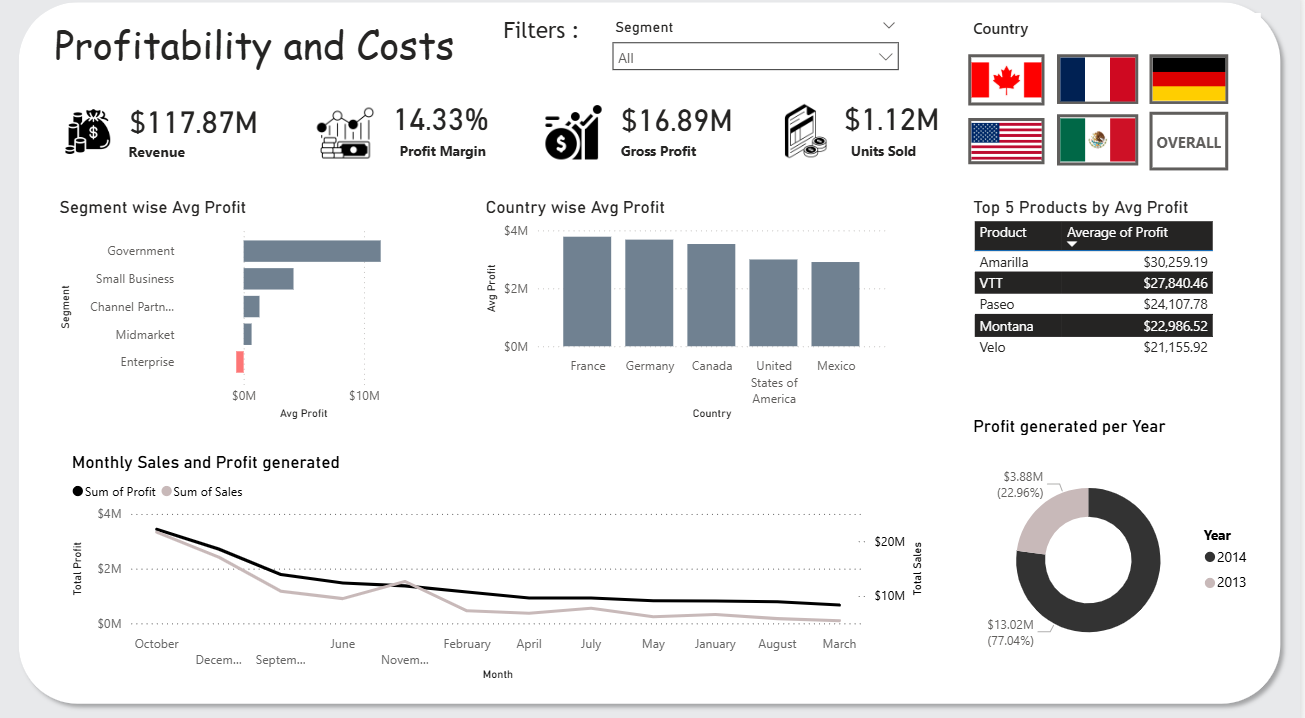

The page's visual inventory and layout, read from the dashboard file:
{"tool":"powerbi","page":{"name":"Profit and cost","canvas":[1280,720],"ordinal":1},"visuals":[{"type":"shape","box":[12.3,0,1256.4,706.8],"z":0},{"type":"textbox","box":[51.5,19.6,542.3,65],"z":1000},{"type":"image","box":[34.4,109.2,109.2,54],"z":2000},{"type":"card","fields":{"Values":["Sum(financial_data v_finance_kpi.Total_Revenue)"]},"box":[123.9,105.5,138.7,38],"z":3000},{"type":"textbox","box":[123.9,141.1,108,30.7],"z":4000},{"type":"image","box":[303.1,103.1,77.3,68.7],"z":5000},{"type":"card","fields":{"Values":["Sum(financial_data v_finance_kpi.Profit_Margin)"]},"box":[380.4,103.1,110.4,38],"z":6000},{"type":"textbox","box":[390.2,141.1,100.6,31.9],"z":7000},{"type":"image","box":[523.9,104.3,83.4,65],"z":8000},{"type":"card","fields":{"Values":["Sum(financial_data v_finance_kpi.Gross_Profit)"]},"box":[607.4,104.3,120.2,38],"z":9000},{"type":"textbox","box":[607.4,141.1,120.2,35.6],"z":10000},{"type":"image","box":[754.6,103.1,78.5,65],"z":11000},{"type":"card","fields":{"Values":["Sum(financial_data v_finance_kpi.Total_Units_Sold)"]},"box":[818.4,103.1,120.2,38],"z":12000},{"type":"textbox","box":[833.1,141.1,105.5,35.6],"z":13000},{"type":"tableEx","title":"Top 5 Products by Avg Profit","fields":{"Values":["financial_data financial_dataset.Product","Avg(financial_data financial_dataset.Profit)"]},"box":[952.9,200.4,254.9,171.4],"z":14000},{"type":"lineChart","title":"Monthly Sales and Profit generated","fields":{"Category":["financial_data financial_dataset.Month Name"],"Y":["Sum(financial_data financial_dataset.Profit)"],"Y2":["Sum(financial_data financial_dataset.Sales)"]},"box":[68.7,450.3,846.6,229.4],"z":15000},{"type":"clusteredColumnChart","title":"Country wise Avg Profit","fields":{"Category":["financial_data v_profit_by_country.Country"],"Y":["Avg(financial_data v_profit_by_country.Total_Profit)"]},"box":[475.3,200.4,403,223.7],"z":16000},{"type":"clusteredBarChart","title":"Segment wise Avg Profit","fields":{"Category":["financial_data v_sales_by_segment.Segment"],"Y":["Avg(financial_data v_sales_by_segment.Total_Profit)"]},"box":[56.4,200,384.1,223.3],"z":17000},{"type":"donutChart","title":"Profit generated per Year","fields":{"Category":["financial_data financial_dataset.Year"],"Y":["Sum(financial_data financial_dataset.Profit)"]},"box":[953.4,414.7,287.1,265],"z":18000},{"type":"actionButton","box":[953.4,60.1,74.8,50.3],"z":19000},{"type":"actionButton","box":[953.4,122.7,74.8,45.4],"z":21000},{"type":"actionButton","box":[1040.5,119,79.8,50.3],"z":22000},{"type":"actionButton","box":[1131.3,60.1,77.3,49.1],"z":23000},{"type":"actionButton","box":[1040.5,60.1,79.8,49.1],"z":24000},{"type":"actionButton","box":[1131.3,116.6,77.3,57.7],"z":25000},{"type":"textbox","box":[953.4,19.6,287.1,33.1],"z":26000},{"type":"textbox","box":[492,19.6,101.8,40.5],"z":27000},{"type":"slicer","fields":{"Values":["financial_data financial_dataset.Segment"]},"box":[594.1,20.1,300.8,68],"z":28000}]}

Visuals, with their boxes in screenshot pixels (x1, y1, x2, y2), scaled from the page's 1280x720 canvas onto the 1305x718 screenshot:
shape: rect(13, 0, 1293, 705)
textbox: rect(53, 20, 605, 84)
image: rect(35, 109, 146, 163)
card - Sum(financial_data v_finance_kpi.Total_Revenue): rect(126, 105, 268, 143)
textbox: rect(126, 141, 236, 171)
image: rect(309, 103, 388, 171)
card - Sum(financial_data v_finance_kpi.Profit_Margin): rect(388, 103, 500, 141)
textbox: rect(398, 141, 500, 173)
image: rect(534, 104, 619, 169)
card - Sum(financial_data v_finance_kpi.Gross_Profit): rect(619, 104, 742, 142)
textbox: rect(619, 141, 742, 176)
image: rect(769, 103, 849, 168)
card - Sum(financial_data v_finance_kpi.Total_Units_Sold): rect(834, 103, 957, 141)
textbox: rect(849, 141, 957, 176)
"Top 5 Products by Avg Profit" tableEx: rect(972, 200, 1231, 371)
"Monthly Sales and Profit generated" lineChart: rect(70, 449, 933, 678)
"Country wise Avg Profit" clusteredColumnChart: rect(485, 200, 895, 423)
"Segment wise Avg Profit" clusteredBarChart: rect(58, 199, 449, 422)
"Profit generated per Year" donutChart: rect(972, 414, 1265, 678)
actionButton: rect(972, 60, 1048, 110)
actionButton: rect(972, 122, 1048, 168)
actionButton: rect(1061, 119, 1142, 169)
actionButton: rect(1153, 60, 1232, 109)
actionButton: rect(1061, 60, 1142, 109)
actionButton: rect(1153, 116, 1232, 174)
textbox: rect(972, 20, 1265, 53)
textbox: rect(502, 20, 605, 60)
slicer - financial_data financial_dataset.Segment: rect(606, 20, 912, 88)
